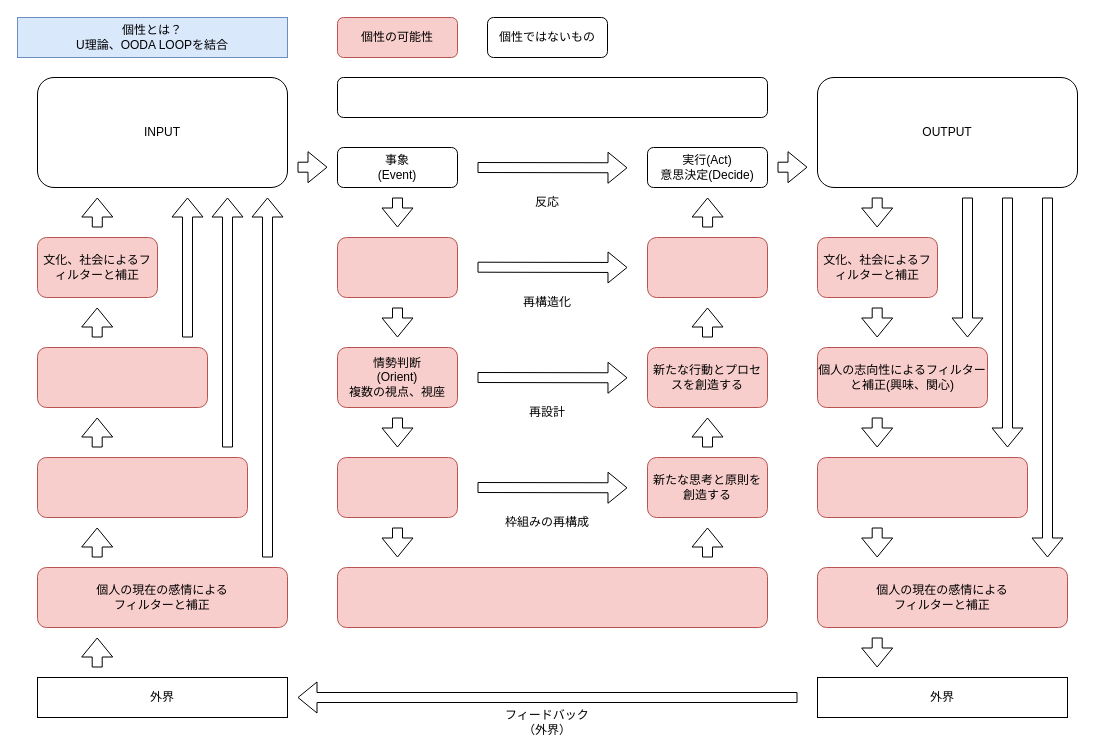
This 1095x755 diagram has some shape labels left out. Here are the shapes that lost their labels. From the top down, the box of each, then its label:
(336, 76, 768, 118): PROCESS
(336, 236, 458, 298): 観察 (Observe) フォーカスする、留まる
(646, 236, 768, 298): 新たな構造と実践を創造する
(36, 346, 208, 408): 個人の志向性によるフィルター と補正 (興味、関心)
(36, 456, 248, 518): 個人の身体によるフィルターと補正 (五感の性能)
(336, 456, 458, 518): 掘り下げる (Sensing)
(816, 456, 1028, 518): 個人の身体によるフィルター と補正(表現の性能)
(336, 566, 768, 628): 再生成 (Regenerate) ソースに触れる、手放し、迎えいれる
